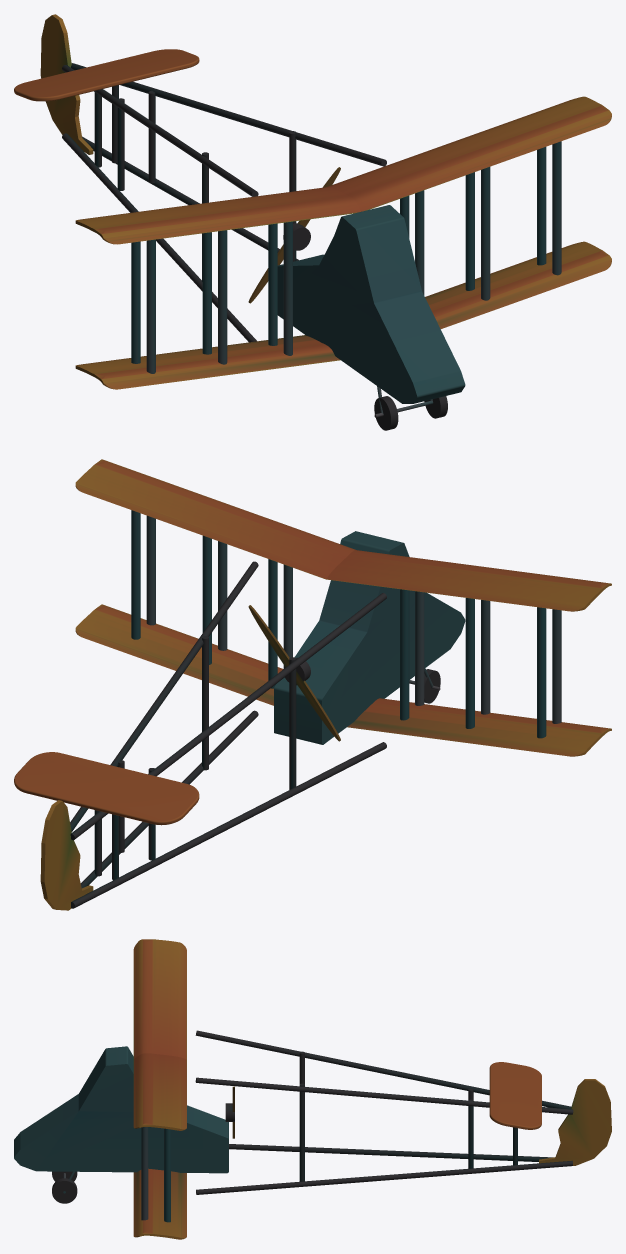
3 renders of one model, top to bottom at view 1: azimuth 30°, elevation 25°; view 2: azimuth 150°, elevation 25°; view 3: azimuth 270°, elevation 25°, orthographic. The views are drawn at different scales.
Visible parts, largest first — view 1: nacelle, wing_panel.001, wing_panel, stabilizer, fin, longeron.003, longeron, longeron.001, post.008, post.006, post.010, post.002 (+12 smaller); view 2: wing_panel.001, nacelle, wing_panel, stabilizer, fin, longeron, longeron.001, longeron.003, post.007, post.011, post.009, post.005 (+12 smaller); view 3: nacelle, wing_panel.001, fin, stabilizer, wing_panel, longeron.002, longeron.003, longeron.001, longeron, post.004, post.005, upright.003 (+1 smaller).
Part boxes in pixels (x1,y1,x2,y2): nacelle: (277, 205, 465, 403); wing_panel.001: (75, 96, 611, 244); wing_panel: (75, 241, 611, 389); stabilizer: (14, 49, 199, 101); fin: (40, 14, 93, 154); longeron.003: (71, 63, 386, 166); longeron: (62, 133, 256, 342); longeron.001: (62, 65, 258, 196); post.008: (218, 230, 227, 364); post.006: (283, 221, 292, 355); post.010: (146, 239, 155, 373); post.002: (481, 167, 490, 300); wing_panel.001: (75, 459, 611, 611); nacelle: (274, 531, 465, 744); wing_panel: (75, 604, 611, 756); stabilizer: (14, 752, 199, 825); fin: (40, 800, 93, 910); longeron: (71, 742, 386, 908); longeron.001: (70, 593, 386, 840); longeron.003: (70, 561, 258, 831); post.007: (400, 589, 409, 720); post.011: (537, 607, 546, 738); post.009: (465, 598, 474, 728); post.005: (131, 510, 140, 639); nacelle: (14, 1046, 228, 1173); wing_panel.001: (133, 939, 186, 1130); fin: (539, 1079, 611, 1165); stabilizer: (489, 1062, 541, 1129); wing_panel: (133, 1168, 186, 1239); longeron.002: (196, 1160, 572, 1194); longeron.003: (195, 1077, 573, 1114); longeron.001: (195, 1030, 571, 1109); longeron: (229, 1144, 552, 1161); post.004: (141, 1127, 148, 1220); post.005: (164, 1128, 170, 1222); upright.003: (299, 1083, 304, 1181).
Size of the model in its own units: 6.64 by 2.65 by 8.99.
